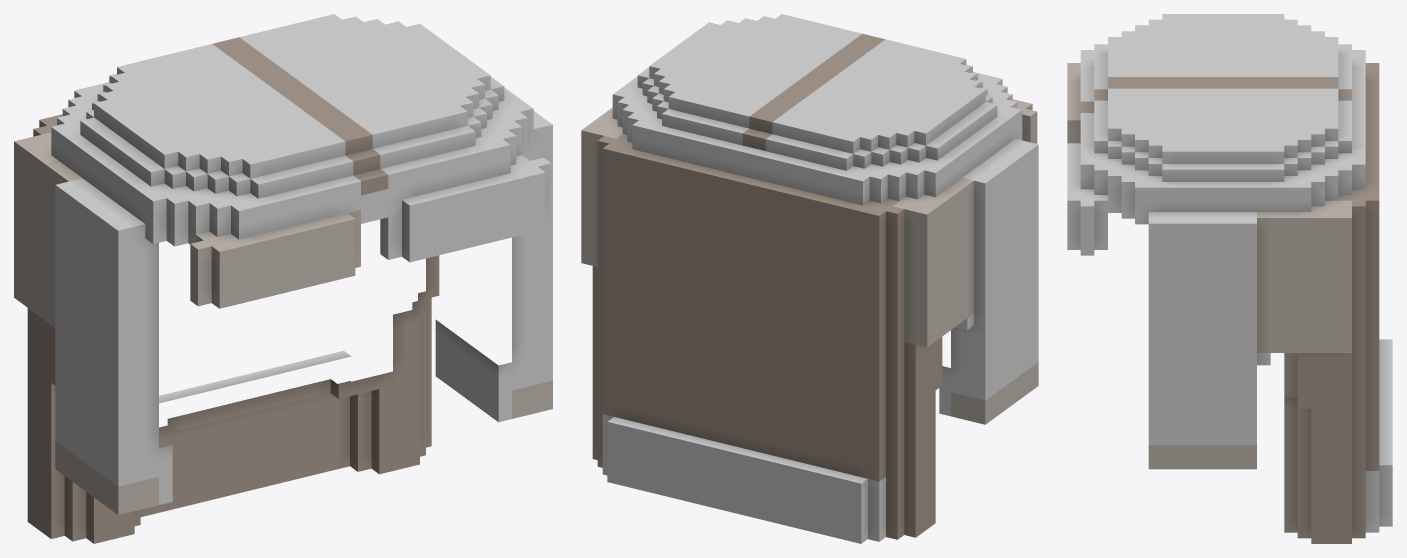
The model's file is hair_f_loose_long.glb.
3 views of the same model, side by side, from view 1: azimuth 30°, elevation 25°; view 2: azimuth 150°, elevation 25°; view 3: azimuth 270°, elevation 25° (orthographic). The views are drawn at different scales.
Visible parts, largest first — view 1: VoxelVisual; view 2: VoxelVisual; view 3: VoxelVisual.
Boxes of the visible parts, <box> form: VoxelVisual: <box>14,14,552,543</box>; VoxelVisual: <box>581,14,1038,543</box>; VoxelVisual: <box>1067,14,1392,543</box>.
Size of what is drawn, in the model's own units: 2 by 1.94 by 1.5.
